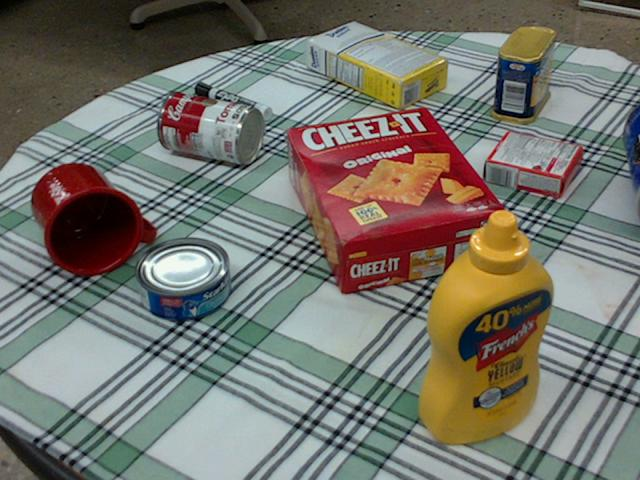cracker_box: (289, 107, 506, 291)
gelatin_box: (483, 131, 579, 195)
large_marker: (193, 82, 270, 119)
master_chef_can: (619, 102, 639, 216)
mug: (29, 162, 152, 275)
mustard_bottle: (420, 208, 555, 442)
potted_meat_can: (490, 26, 554, 123)
sugar_box: (306, 22, 450, 108)
tomato_soup_can: (156, 90, 263, 162)
tuna_fish_can: (132, 237, 229, 320)
